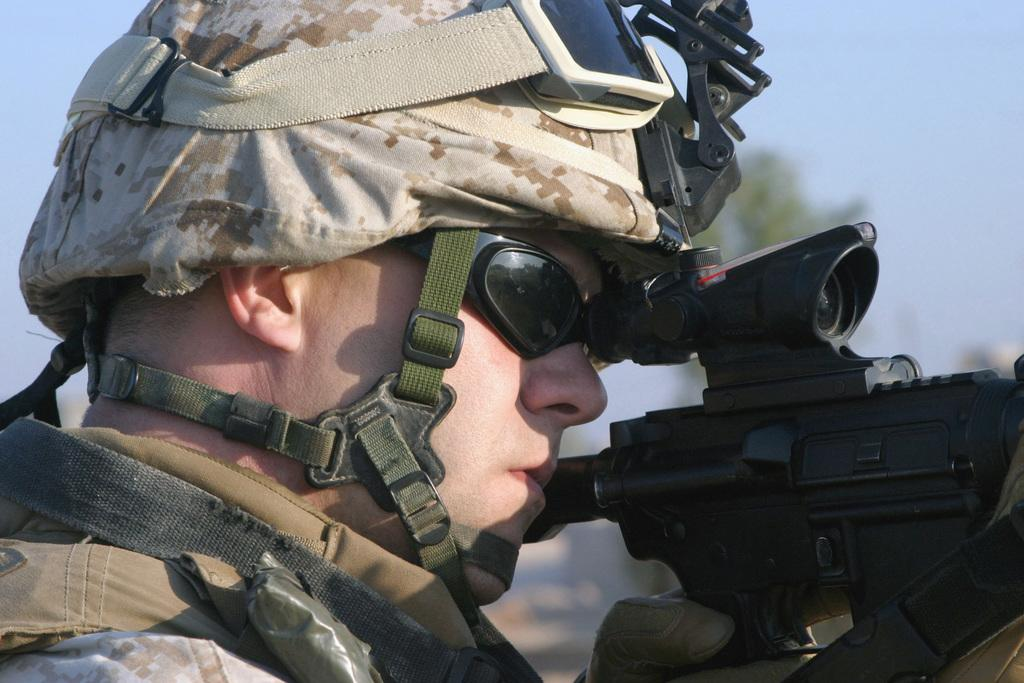Rifle: (522, 221, 1023, 680)
